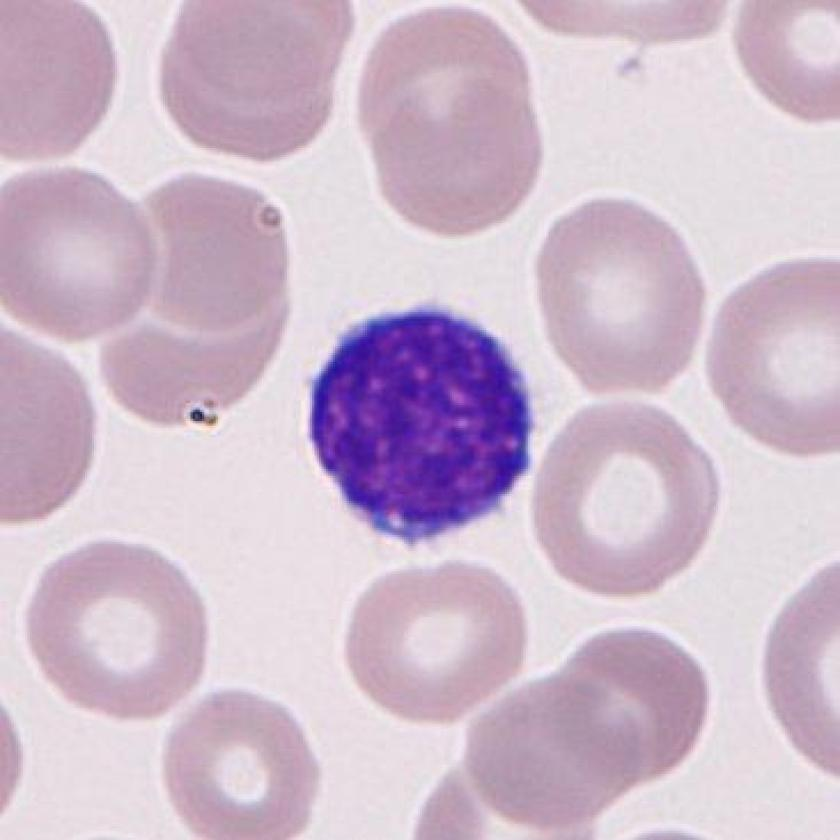lymphocyte: (290, 295, 547, 559)
